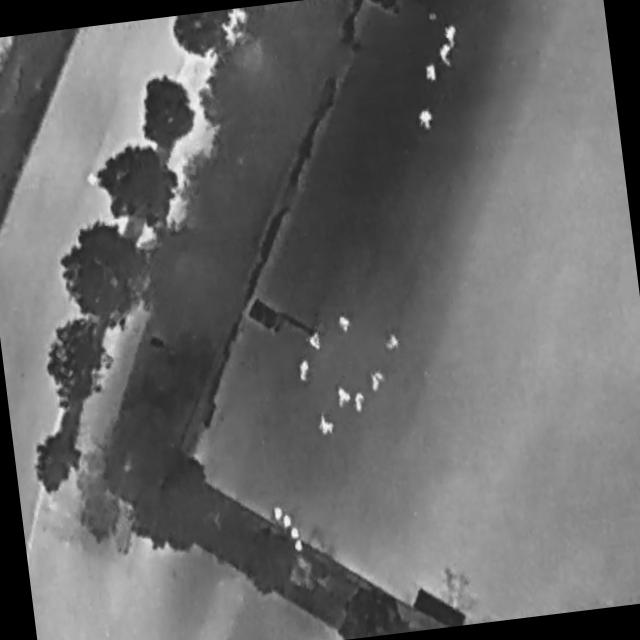person: (315, 411, 340, 441), (334, 384, 355, 411), (442, 22, 461, 48), (296, 358, 313, 385), (369, 370, 388, 394), (351, 390, 368, 416), (419, 108, 434, 134), (440, 44, 454, 65), (385, 334, 401, 351), (309, 333, 322, 353), (339, 316, 352, 335), (427, 63, 438, 83)
